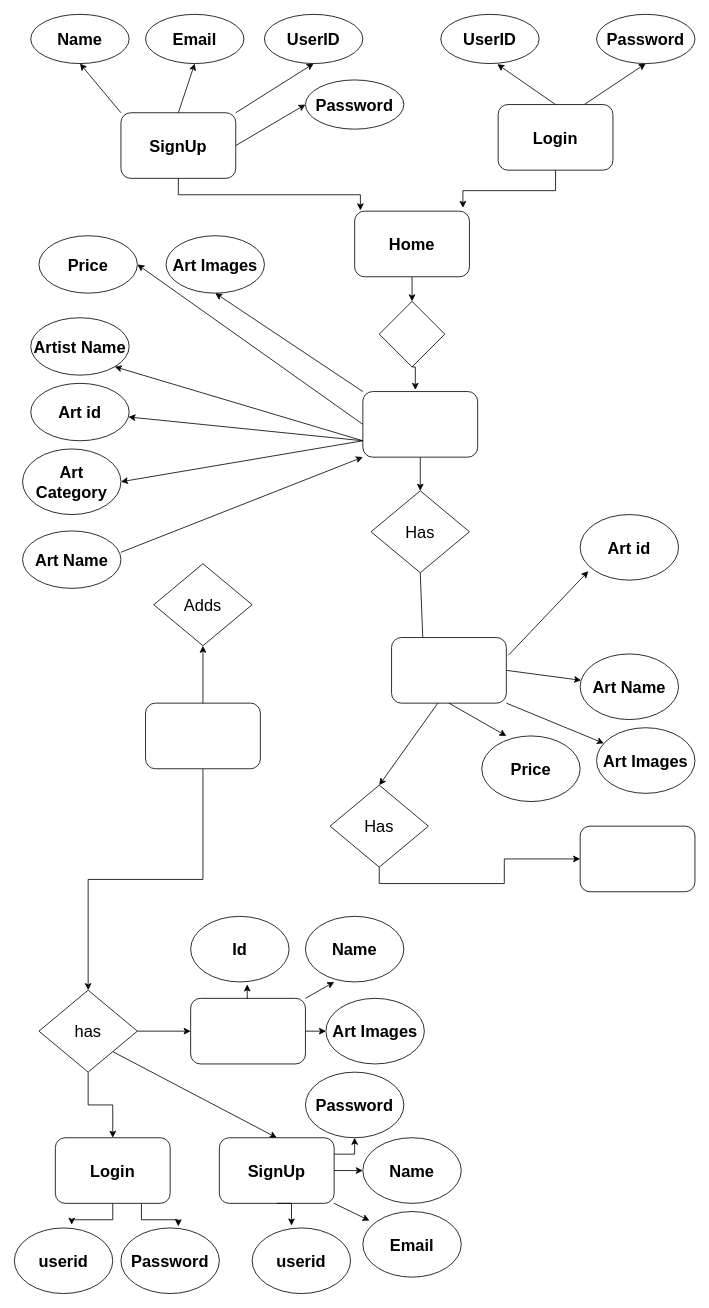
This 709x1308 diagram has some shape labels left out. Each missing label, with the centre of its shape:
Art/Products: point 420,424
Artist/Seller: point 202,735
Cart: point 448,670
Contains: point 411,334
Payment: point 637,858
Profile Page: point 247,1031
